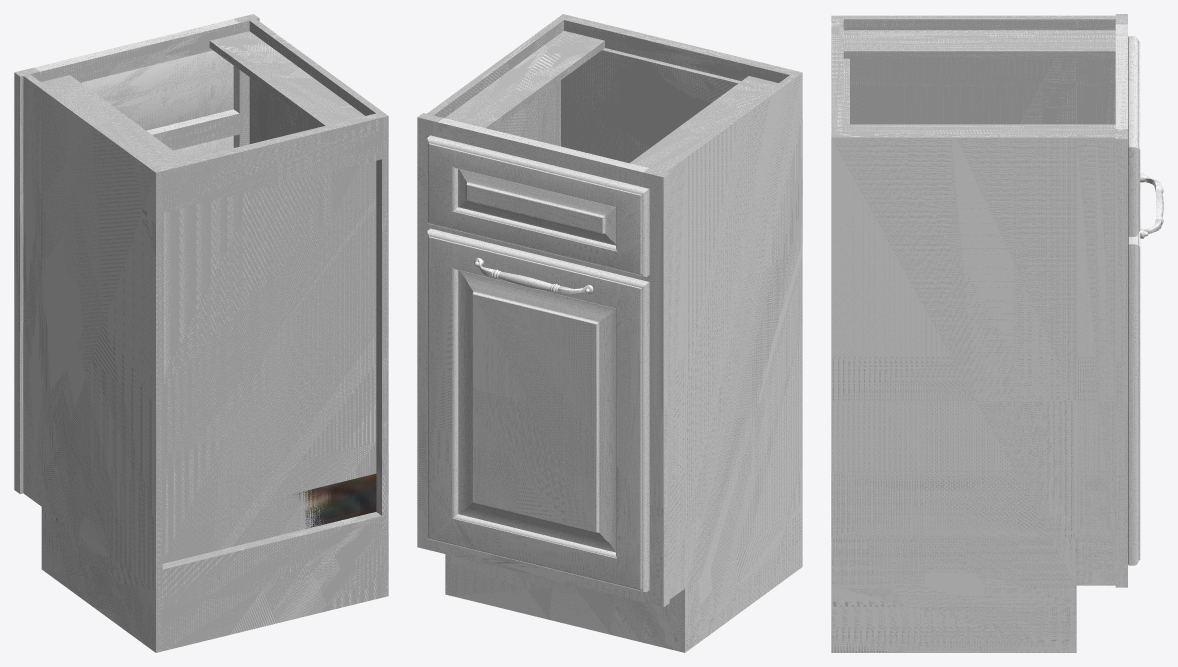
3 views of the same model, side by side, from view 1: azimuth 30°, elevation 25°; view 2: azimuth 150°, elevation 25°; view 3: azimuth 270°, elevation 25° (orthographic). The views are drawn at different scales.
Parts seen in each view (by area): view 1: mesh4_mesh4-geometry, mesh7_mesh7-geometry, mesh12_mesh12-geometry, mesh3_mesh3-geometry, mesh10_mesh10-geometry, mesh6_mesh6-geometry, mesh8_mesh8-geometry, mesh5_mesh5-geometry, mesh2_mesh2-geometry, mesh14_mesh14-geometry, mesh15_mesh15-geometry, mesh41_mesh41-geometry (+7 smaller); view 2: mesh7_mesh7-geometry, mesh35_mesh35-geometry, mesh2_mesh2-geometry, mesh4_mesh4-geometry, mesh33_mesh33-geometry, mesh32_mesh32-geometry, mesh13_mesh13-geometry, mesh8_mesh8-geometry, mesh5_mesh5-geometry, mesh6_mesh6-geometry, mesh31_mesh31-geometry, mesh30_mesh30-geometry (+16 smaller); view 3: mesh10_mesh10-geometry, mesh7_mesh7-geometry, mesh9_mesh9-geometry, mesh11_mesh11-geometry, mesh15_mesh15-geometry, mesh2_mesh2-geometry, mesh6_mesh6-geometry, mesh32_mesh32-geometry, mesh14_mesh14-geometry, mesh3_mesh3-geometry, mesh5_mesh5-geometry, mesh20_mesh20-geometry (+4 smaller).
Part boxes in pixels (x1,y1,x2,y2): mesh4_mesh4-geometry: (162,161,376,563); mesh7_mesh7-geometry: (41,87,162,590); mesh12_mesh12-geometry: (162,512,381,650); mesh3_mesh3-geometry: (157,113,381,212); mesh10_mesh10-geometry: (267,32,388,534); mesh6_mesh6-geometry: (23,74,47,506); mesh8_mesh8-geometry: (41,507,162,652); mesh5_mesh5-geometry: (34,19,239,150); mesh2_mesh2-geometry: (14,14,259,493); mesh14_mesh14-geometry: (209,31,364,127); mesh15_mesh15-geometry: (41,75,185,166); mesh41_mesh41-geometry: (282,473,376,528); mesh7_mesh7-geometry: (678,71,802,588); mesh35_mesh35-geometry: (474,296,594,529); mesh2_mesh2-geometry: (417,113,669,607); mesh4_mesh4-geometry: (561,48,740,163); mesh33_mesh33-geometry: (594,325,649,541); mesh32_mesh32-geometry: (427,283,474,500); mesh13_mesh13-geometry: (452,556,678,650); mesh8_mesh8-geometry: (678,502,802,652); mesh5_mesh5-geometry: (438,118,648,602); mesh6_mesh6-geometry: (660,157,684,599); mesh31_mesh31-geometry: (474,501,597,579); mesh30_mesh30-geometry: (474,240,599,325); mesh10_mesh10-geometry: (831,134,1076,585); mesh7_mesh7-geometry: (831,15,1076,124); mesh9_mesh9-geometry: (1076,134,1115,585); mesh11_mesh11-geometry: (831,585,1076,652); mesh15_mesh15-geometry: (843,30,1115,58); mesh2_mesh2-geometry: (1115,14,1127,587); mesh6_mesh6-geometry: (1076,15,1115,124); mesh32_mesh32-geometry: (1128,297,1140,511); mesh14_mesh14-geometry: (843,124,1115,133); mesh3_mesh3-geometry: (831,19,843,133); mesh5_mesh5-geometry: (1115,24,1127,128); mesh20_mesh20-geometry: (1128,58,1140,128).
Bounding box in the file's own units: 0.4107 × 0.7872 × 0.4599.
